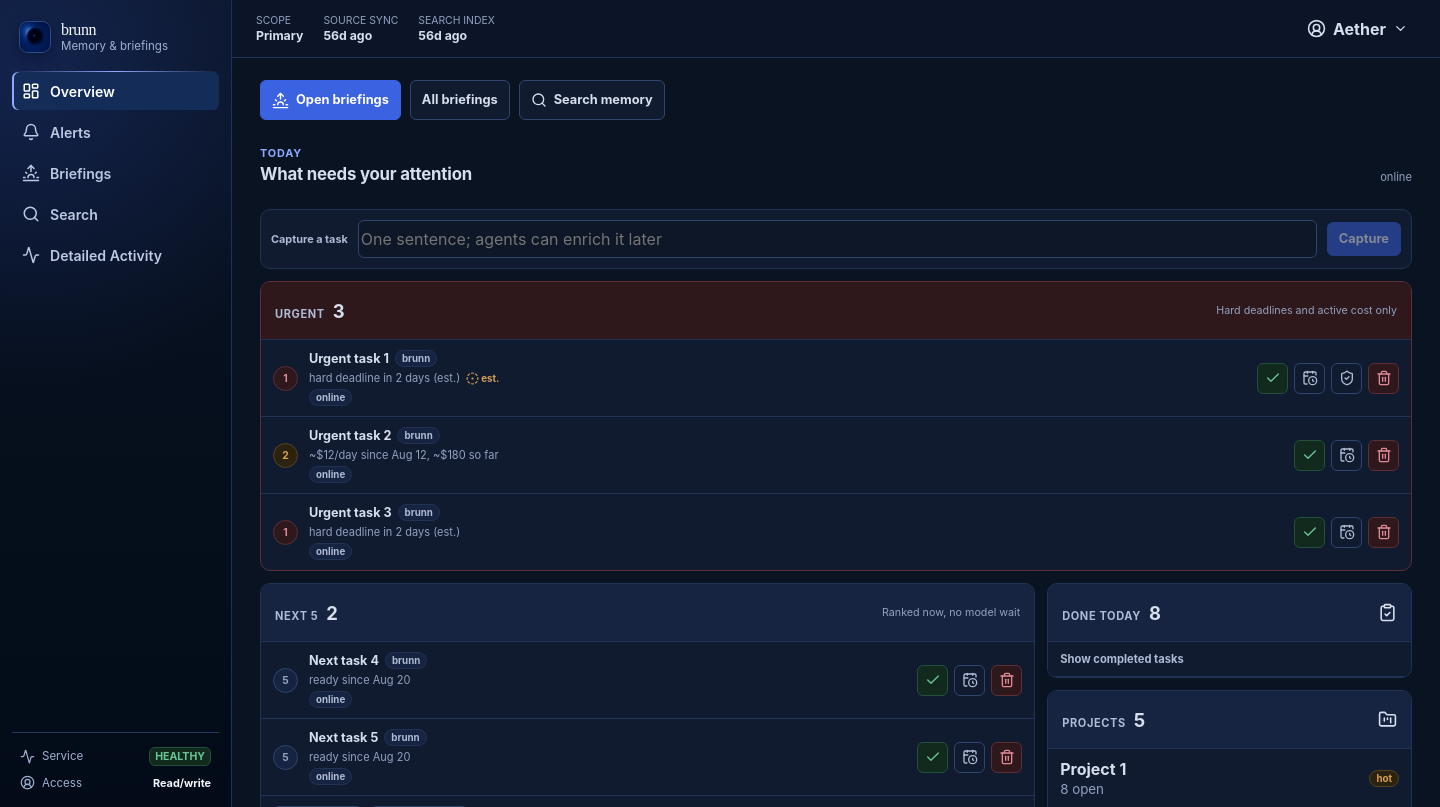
agent-first task surfaces › keeps the dashboard bounded, explains ranking, and expands only explicitly
Expected: the text "8" is shown, [1149,602,1161,624]
Expected: the text "Next task 6" is not shown
Click the button "Show completed tasks": {"x": 1122, "y": 659} [1048,642,1411,677]
(page scrolled)
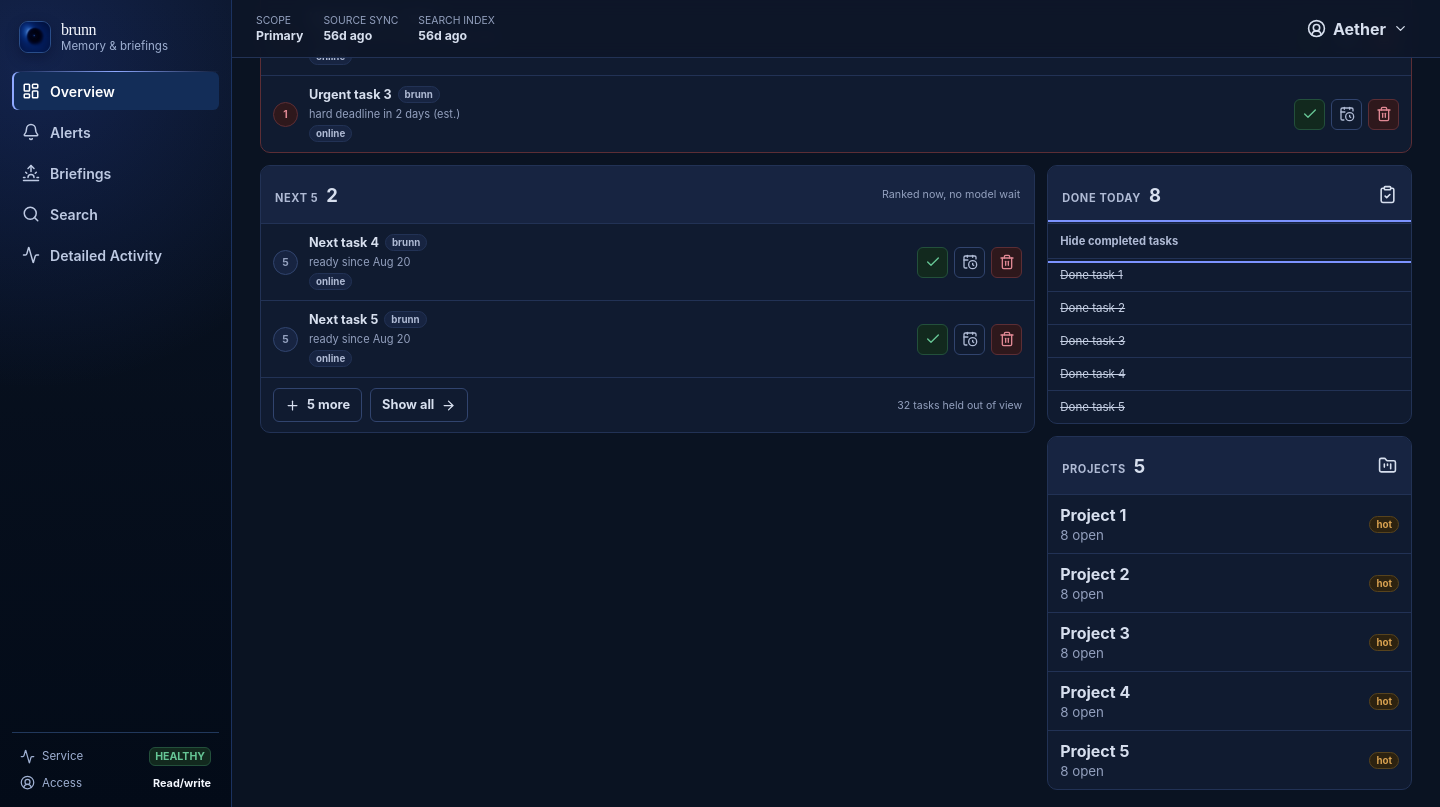
Expected: the number of list items is 5, [1048,259,1411,292]; [1048,292,1411,325]; [1048,325,1411,358]; [1048,358,1411,391]; [1060,400,1125,414]
Click the button "5 more": {"x": 318, "y": 405} [273,388,362,422]
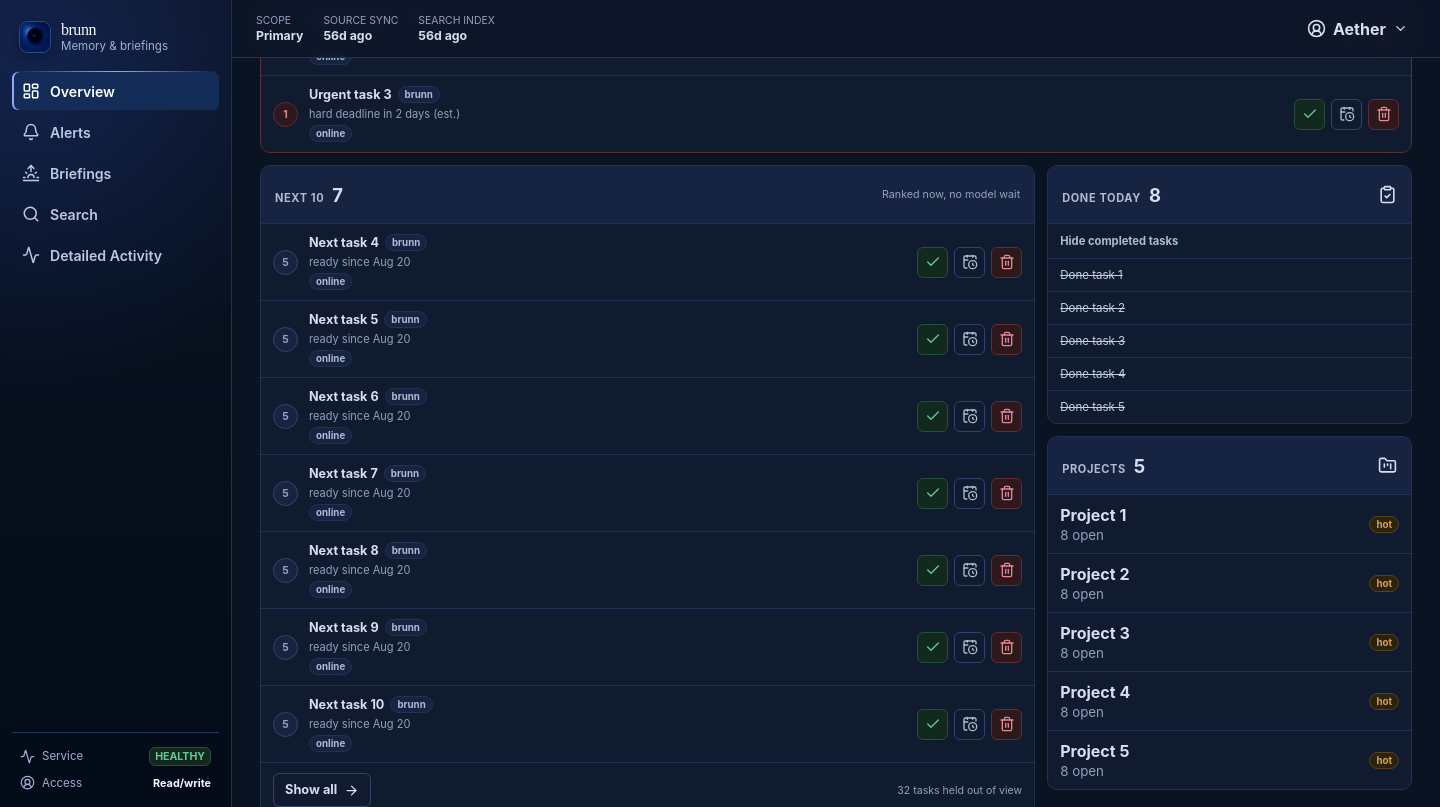
Expected: the link "Next task 10" is shown, [309,697,384,712]
